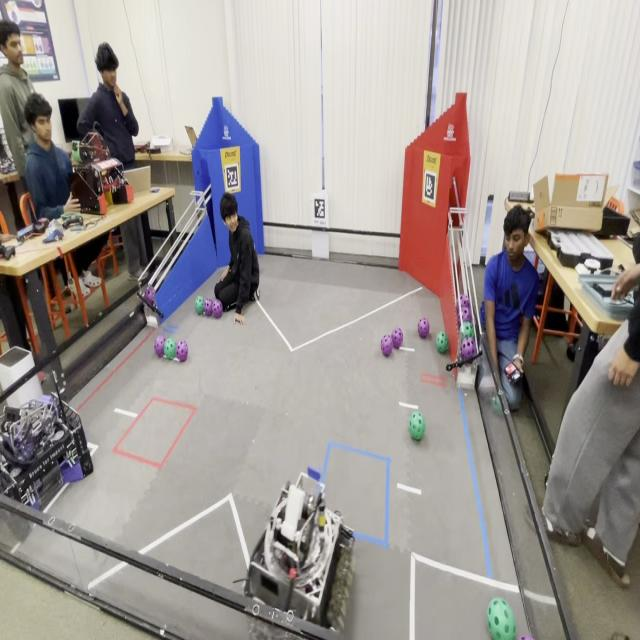artifact_green: (488, 599, 515, 639), (409, 411, 425, 441), (164, 338, 176, 359), (436, 332, 448, 353), (72, 144, 82, 164), (491, 396, 502, 414), (462, 322, 474, 337), (195, 296, 204, 314), (610, 632, 629, 639), (520, 636, 533, 639)
artifact_purple: (461, 338, 476, 359), (457, 307, 472, 326), (392, 327, 404, 349), (381, 336, 393, 357), (176, 341, 188, 361), (154, 336, 165, 357), (418, 318, 429, 338), (456, 301, 471, 315), (145, 286, 155, 306), (213, 300, 223, 318), (457, 294, 470, 307), (204, 299, 213, 316), (520, 636, 533, 639)
